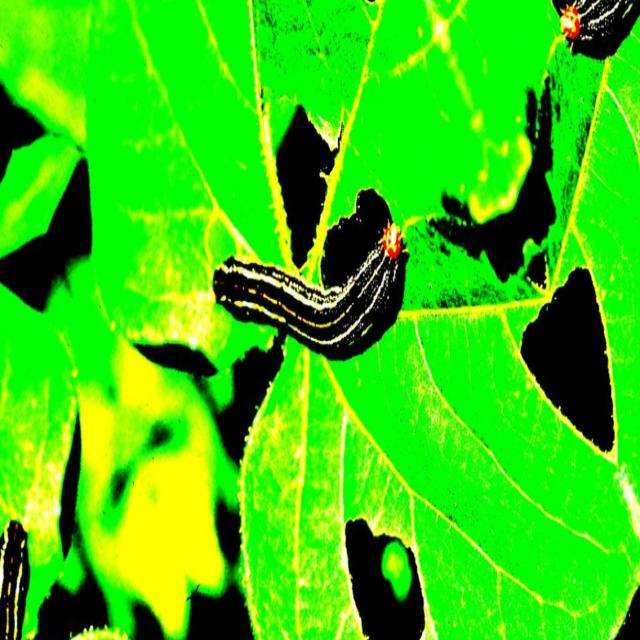Armyworm: (200, 191, 415, 423)
Armyworm_damage: (524, 272, 640, 469), (327, 501, 450, 640), (269, 106, 346, 277)
